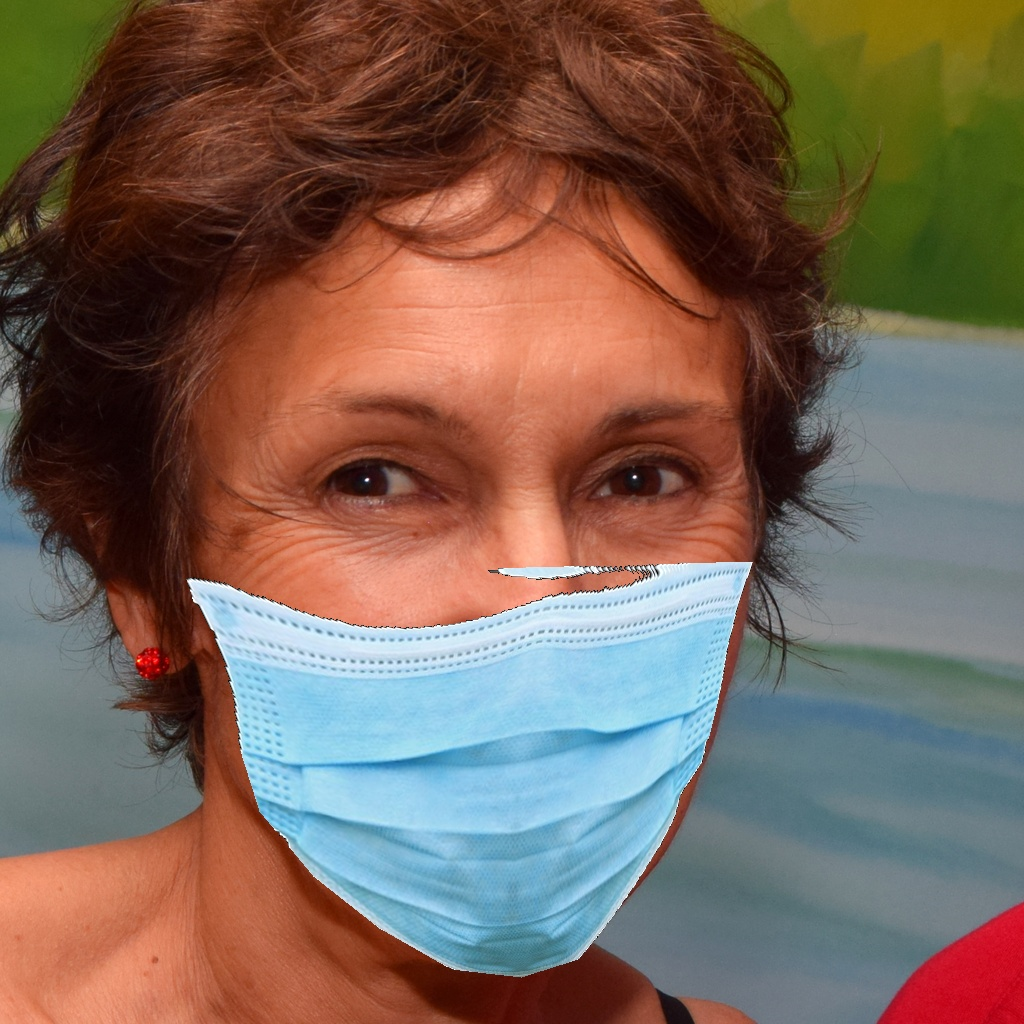with_mask: (233, 372, 765, 985)
